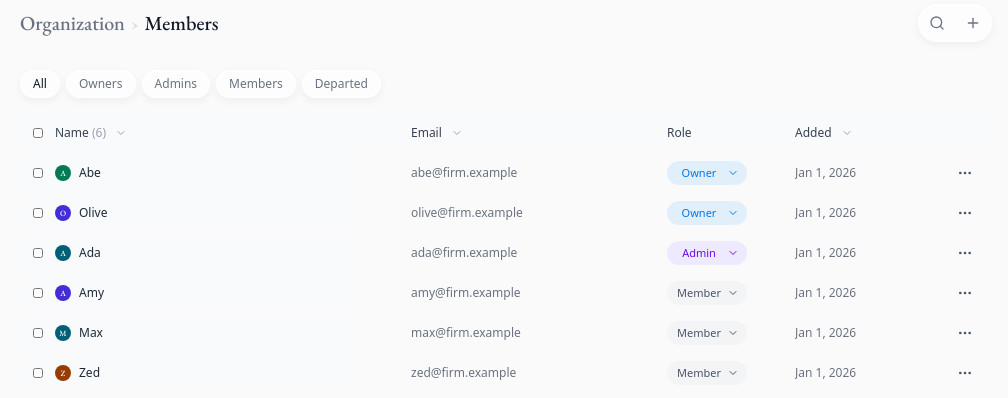
Test: OrganizationMembers › the role tabs › drops a selection when the tab changes
Check: the text "Olive" is shown, box [79, 205, 107, 221]
Click the checkbox named "Select Amy": [38, 293] box [33, 288, 43, 298]
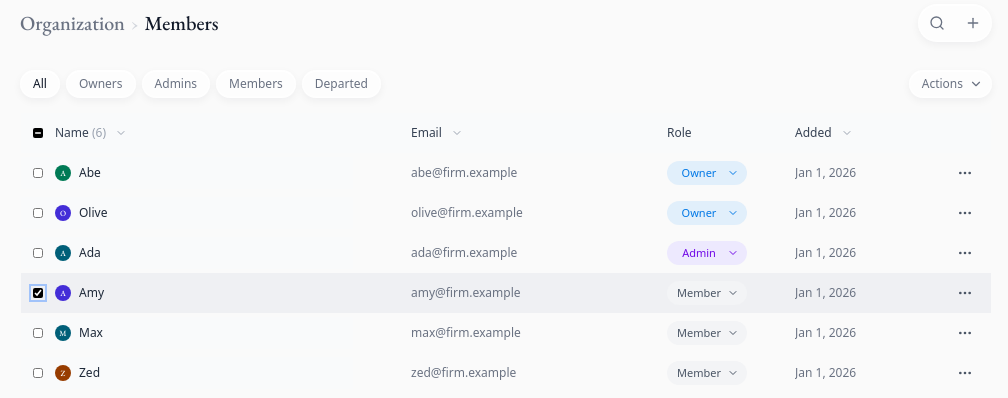
Click the button "Owners": [101, 84] box [66, 70, 136, 98]
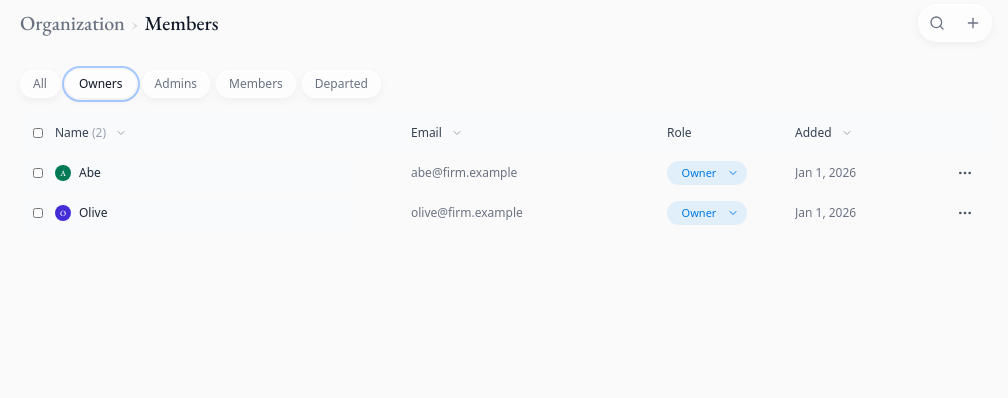
Click the button "All": [40, 84] box [20, 70, 60, 98]
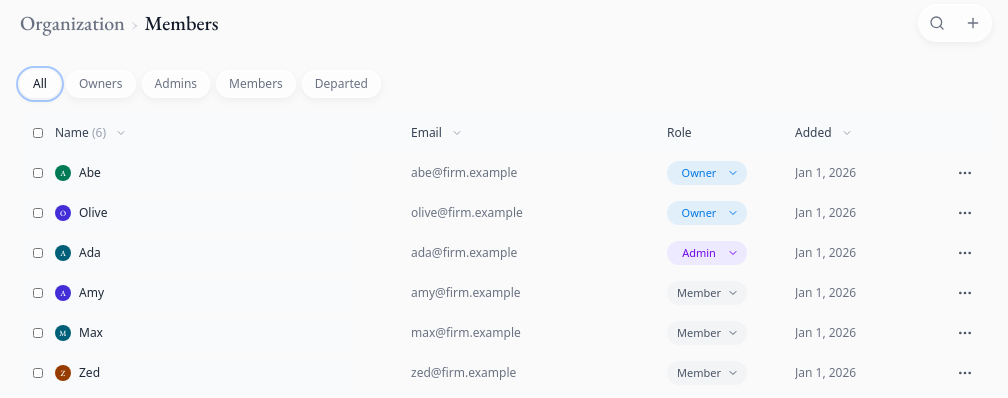
Check: the checkbox named "Select Amy" is not checked, box [33, 288, 43, 298]
